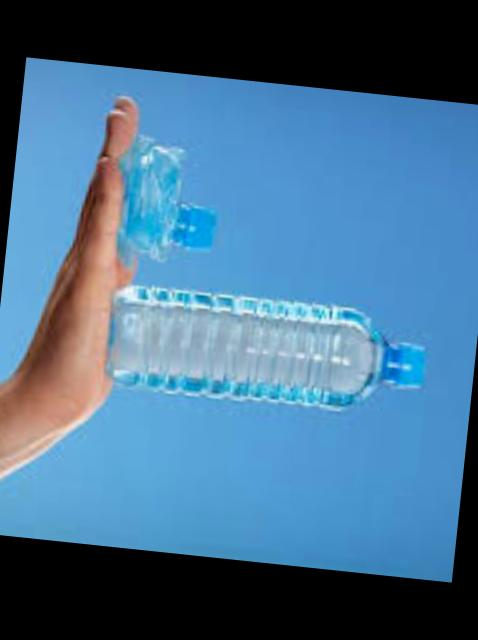plastic: (113, 290, 427, 412), (125, 140, 218, 265)
